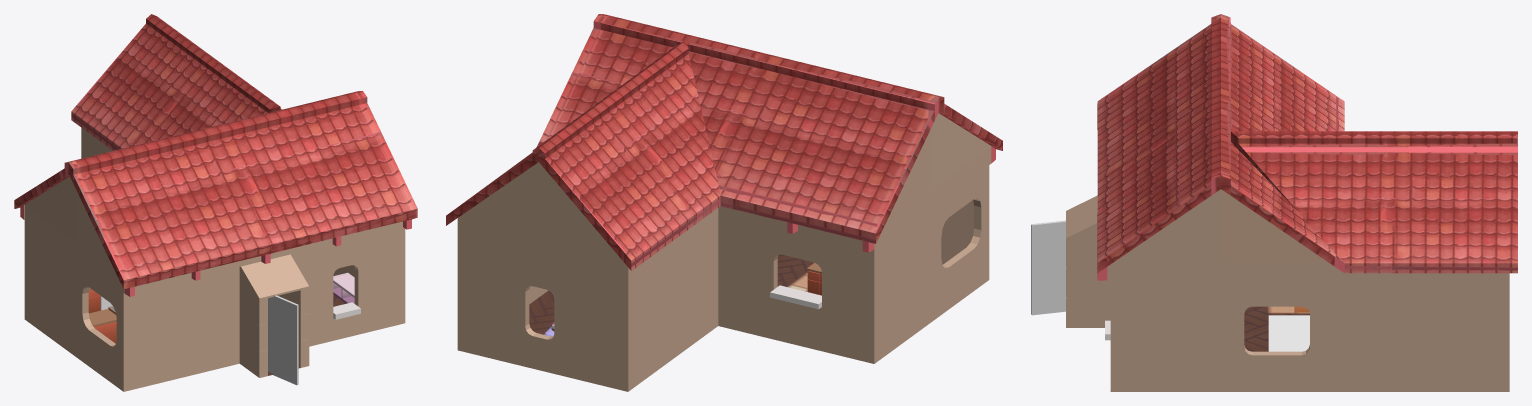
Rendered from testbig.glb.
3 renders of one model, left to right at view 1: azimuth 30°, elevation 25°; view 2: azimuth 150°, elevation 25°; view 3: azimuth 270°, elevation 25°, orthographic. The views are drawn at different scales.
Visible parts, largest first — view 1: Plane, door, small counter.001, tv stand; view 2: Plane; view 3: Plane, door, livingtable.001.
Boxes of the visible parts, bbox=[...] form: Plane: bbox=[14, 14, 417, 391]; door: bbox=[267, 295, 298, 385]; small counter.001: bbox=[89, 309, 116, 343]; tv stand: bbox=[333, 272, 354, 303]; Plane: bbox=[446, 14, 1002, 391]; Plane: bbox=[1066, 14, 1517, 391]; door: bbox=[1031, 220, 1065, 315]; livingtable.001: bbox=[1268, 315, 1309, 351].
Bounding box in the file's own units: 7.25 × 4.62 × 9.21.
Materials: 18 (16 with a texture image).
